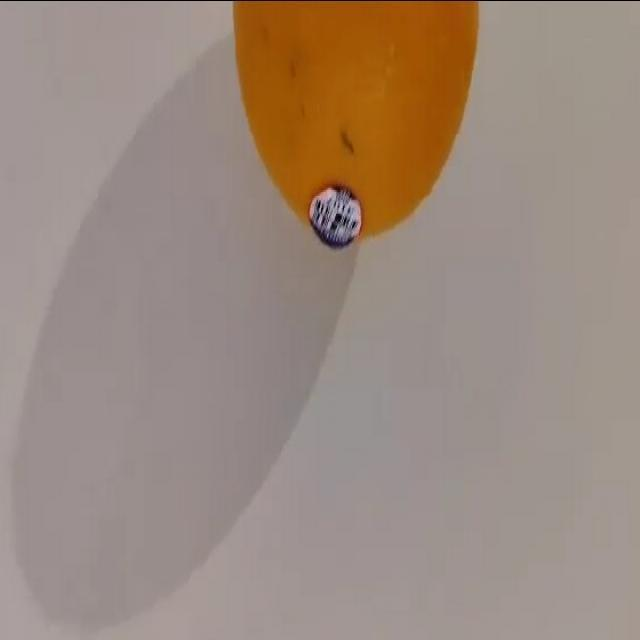Orange: (231, 0, 479, 248)
